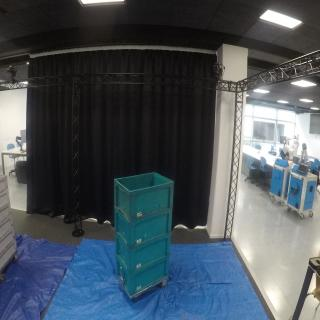BoxB4: (113, 205, 175, 252), (113, 171, 175, 217), (114, 235, 177, 268), (115, 259, 173, 293)
